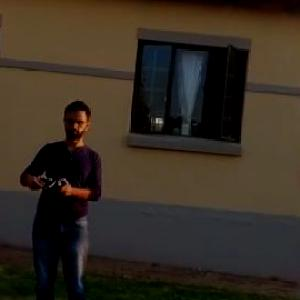follow: (9, 95, 109, 299)
